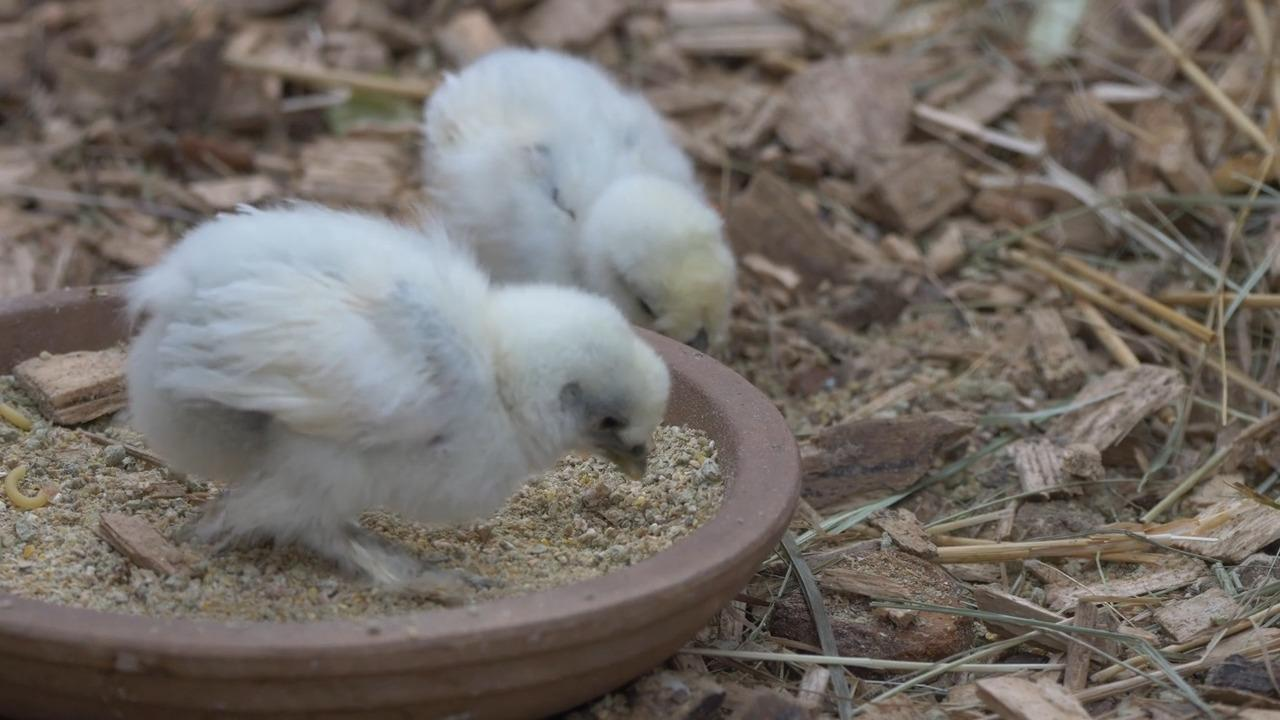Normal: (119, 199, 667, 589)
